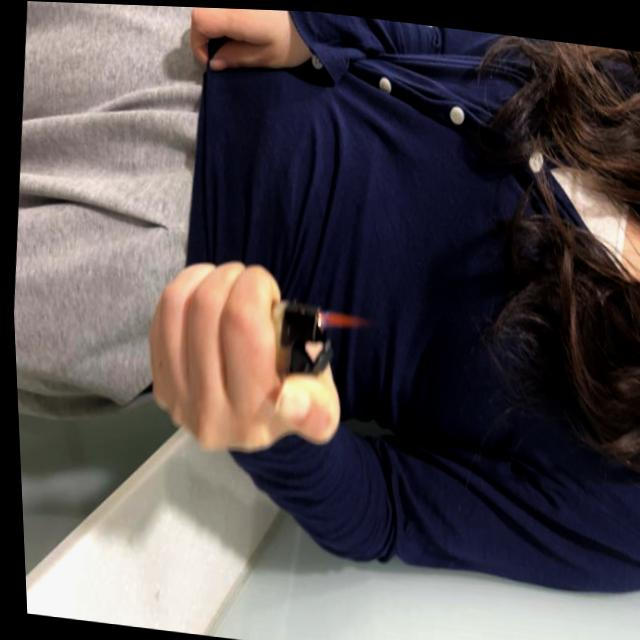helmet: (315, 304, 370, 327)
